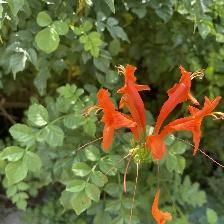honeysuckle: (96, 84, 137, 150)
